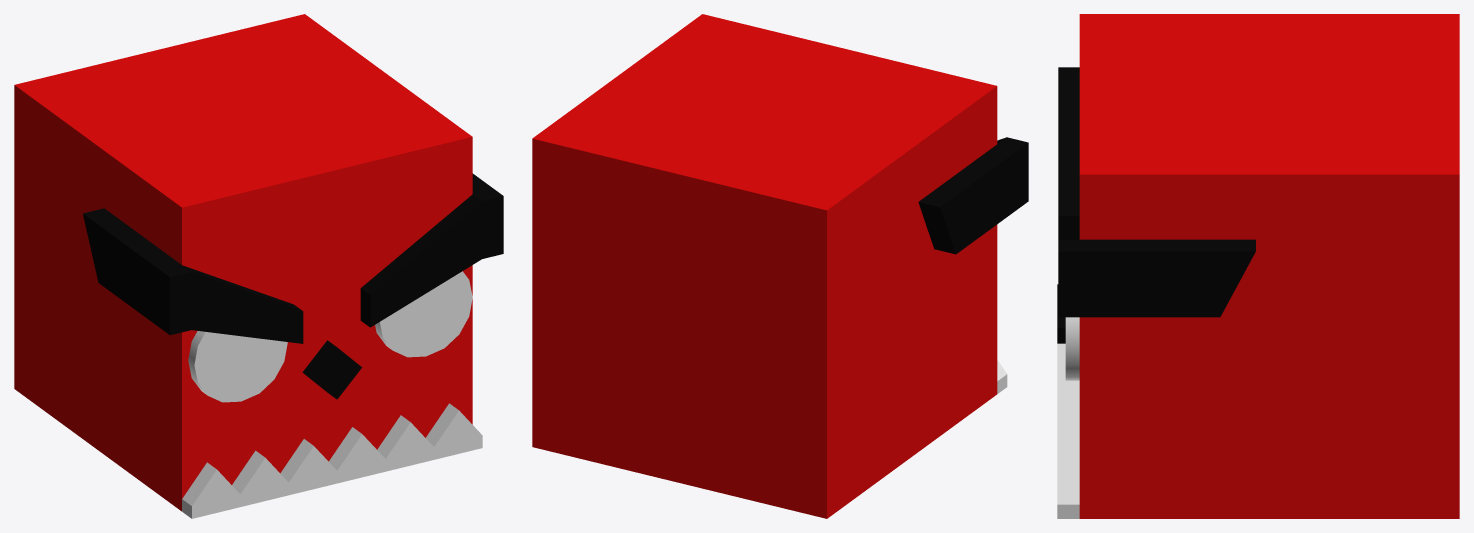
File: enemy_cracked.fbx
3 views of the same model, side by side, from view 1: azimuth 30°, elevation 25°; view 2: azimuth 150°, elevation 25°; view 3: azimuth 270°, elevation 25° (orthographic). The views are drawn at different scales.
Visible parts, largest first — view 1: base_fracturepart4, base_fracturepart6, base_fracturepart5, base_fracturepart2, base_fracturepart3, kas_fracturepart2, base_fracturepart1, goz, kas_fracturepart4, goz2, kas_fracturepart6, kas_fracturepart5 (+7 smaller); view 2: base_fracturepart1, base_fracturepart6, base_fracturepart3, base_fracturepart4, base_fracturepart2, kas_fracturepart6, base_fracturepart5, kas_fracturepart2; view 3: base_fracturepart1, base_fracturepart4, base_fracturepart5, kas_fracturepart4, base_fracturepart6, base_fracturepart3, base_fracturepart2, kas_fracturepart2, dis_fracturepart, goz2, dis_fracturepart_2, dis_fracturepart_3 (+1 smaller).
Boxes of the visible parts, x1,y1,x2,y2 form: base_fracturepart4: (151,52,472,267); base_fracturepart6: (14,62,190,326); base_fracturepart5: (115,265,472,511); base_fracturepart2: (151,132,384,415); base_fracturepart3: (25,52,274,462); kas_fracturepart2: (144,250,303,343); base_fracturepart1: (14,14,356,414); goz: (188,331,287,402); kas_fracturepart4: (388,173,503,265); goz2: (375,271,472,357); kas_fracturepart6: (83,208,161,316); kas_fracturepart5: (360,263,472,327); base_fracturepart1: (532,100,863,518); base_fracturepart6: (733,95,984,438); base_fracturepart3: (691,89,966,491); base_fracturepart4: (585,14,861,175); base_fracturepart2: (794,53,997,341); kas_fracturepart6: (918,155,1010,254); base_fracturepart5: (929,294,997,443); kas_fracturepart2: (976,137,1028,219); base_fracturepart1: (1228,88,1459,518); base_fracturepart4: (1079,87,1456,394); base_fracturepart5: (1079,323,1235,518); kas_fracturepart4: (1058,239,1255,317); base_fracturepart6: (1109,14,1459,64); base_fracturepart3: (1179,43,1459,95); base_fracturepart2: (1079,14,1200,94); kas_fracturepart2: (1058,67,1079,239); dis_fracturepart: (1057,457,1079,518); goz2: (1065,317,1079,380); dis_fracturepart_2: (1057,430,1079,456); dis_fracturepart_3: (1057,403,1079,429).
Bounding box in the file's own units: 115 × 100 × 106.
